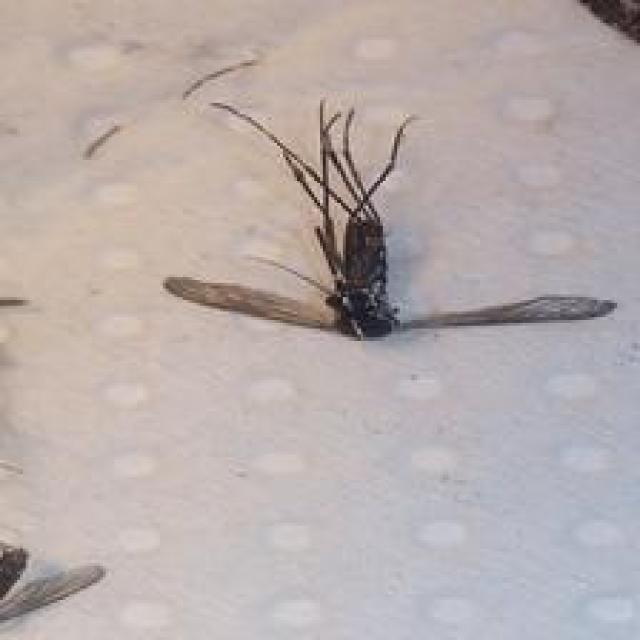Aedes albopictus: (162, 58, 618, 342)
